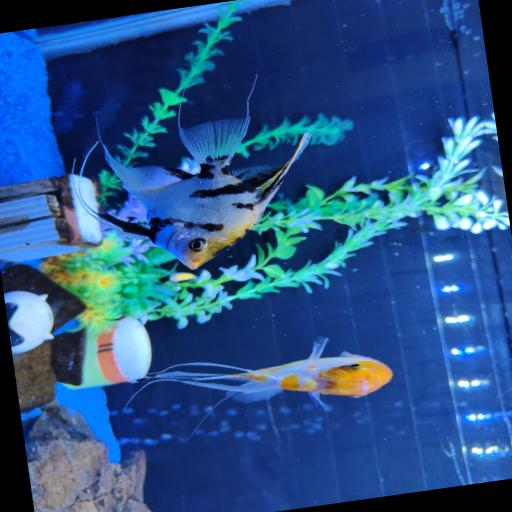Fish: (89, 116, 309, 269), (137, 338, 392, 408)
